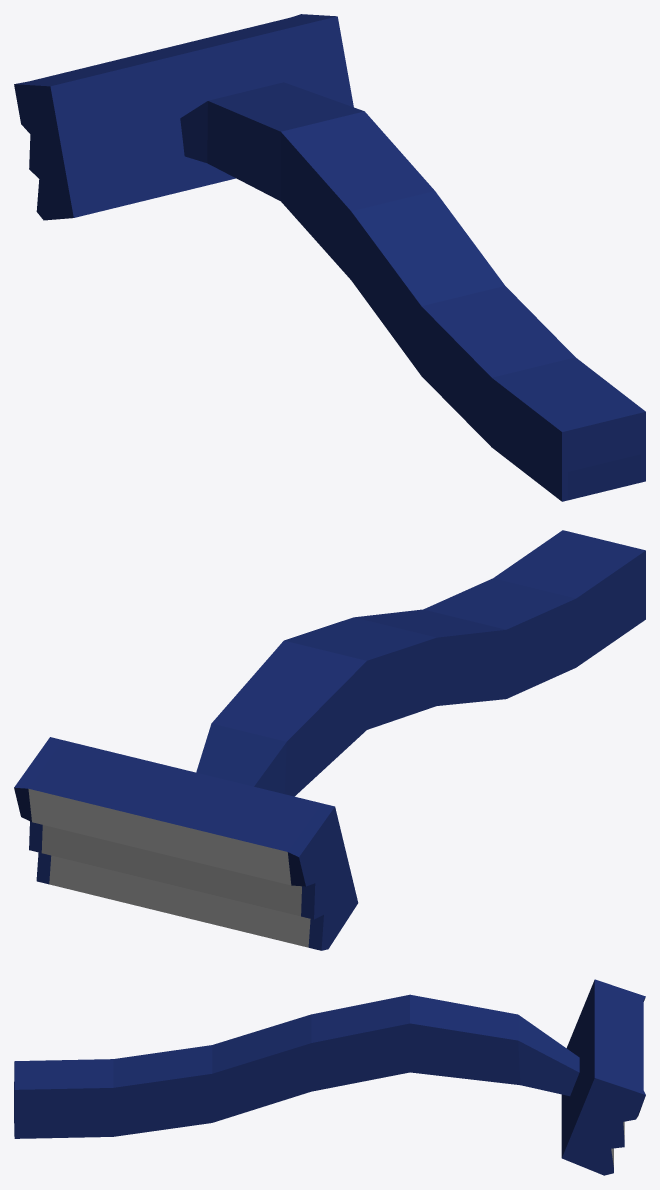
The model's file is razor.fbx.
3 renders of one model, top to bottom at view 1: azimuth 30°, elevation 25°; view 2: azimuth 150°, elevation 25°; view 3: azimuth 270°, elevation 25°, orthographic. The views are drawn at different scales.
Parts seen in each view (by area): view 1: Cube.002, Cube.003; view 2: Cube.002, Cube.003; view 3: Cube.002, Cube.003.
Boxes of the visible parts, x1,y1,x2,y2 form: Cube.002: [180, 82, 645, 501]; Cube.003: [14, 14, 353, 220]; Cube.002: [196, 530, 645, 796]; Cube.003: [14, 737, 358, 950]; Cube.002: [14, 994, 579, 1138]; Cube.003: [561, 979, 645, 1175].
Bounding box in the file's own units: 33.27 × 18.32 × 90.14.
